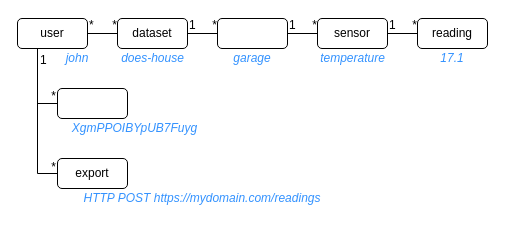
Some shapes in this 505 by 225 pixel diagram are drawn without their labels. Here are the shapes that lost their labels. From the top down, the box of each, then its label:
(216, 18, 288, 48): node
(56, 88, 128, 118): token
